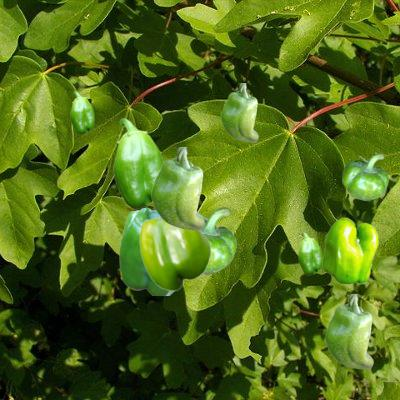bell_pepper: (139, 217, 210, 290), (119, 207, 175, 294), (113, 118, 163, 208), (151, 147, 203, 229), (322, 217, 377, 283), (325, 294, 372, 368), (198, 207, 235, 273), (221, 83, 257, 141), (342, 153, 387, 199), (70, 91, 93, 133), (298, 232, 321, 274)
